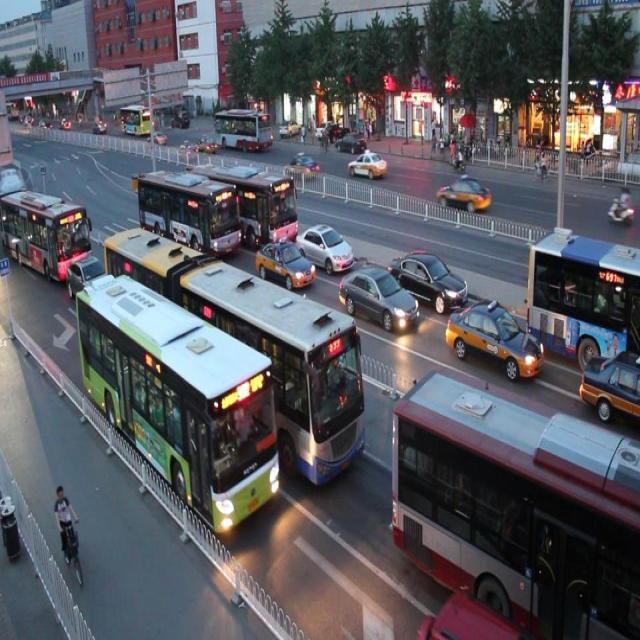car: (446, 294, 544, 382), (413, 583, 532, 640), (337, 258, 416, 331), (547, 234, 625, 305), (390, 243, 468, 309), (578, 344, 640, 419), (253, 230, 314, 289), (294, 214, 352, 273), (67, 254, 114, 306)
van: (102, 218, 366, 482), (391, 370, 640, 632), (76, 268, 280, 538), (526, 232, 640, 362), (136, 160, 240, 262), (191, 153, 298, 248), (1, 182, 90, 272)
